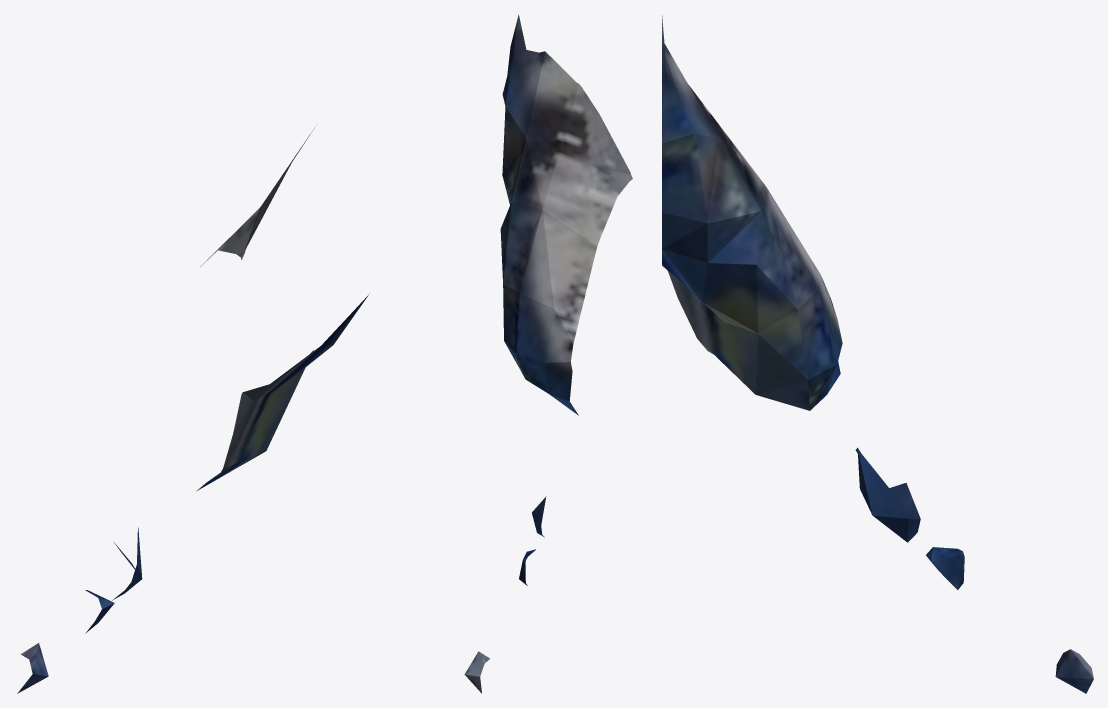
3 views of the same model, side by side, from view 1: azimuth 30°, elevation 25°; view 2: azimuth 150°, elevation 25°; view 3: azimuth 270°, elevation 25° (orthographic). The views are drawn at different scales.
Bounding box in the file's own units: 0.0908 × 0.3587 × 0.1851.
Materials: 1 (1 with a texture image).
